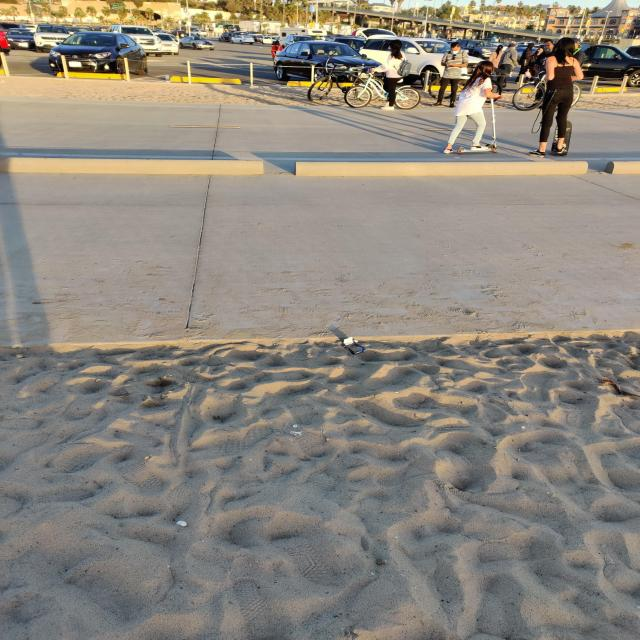litter: (341, 337, 367, 355)
